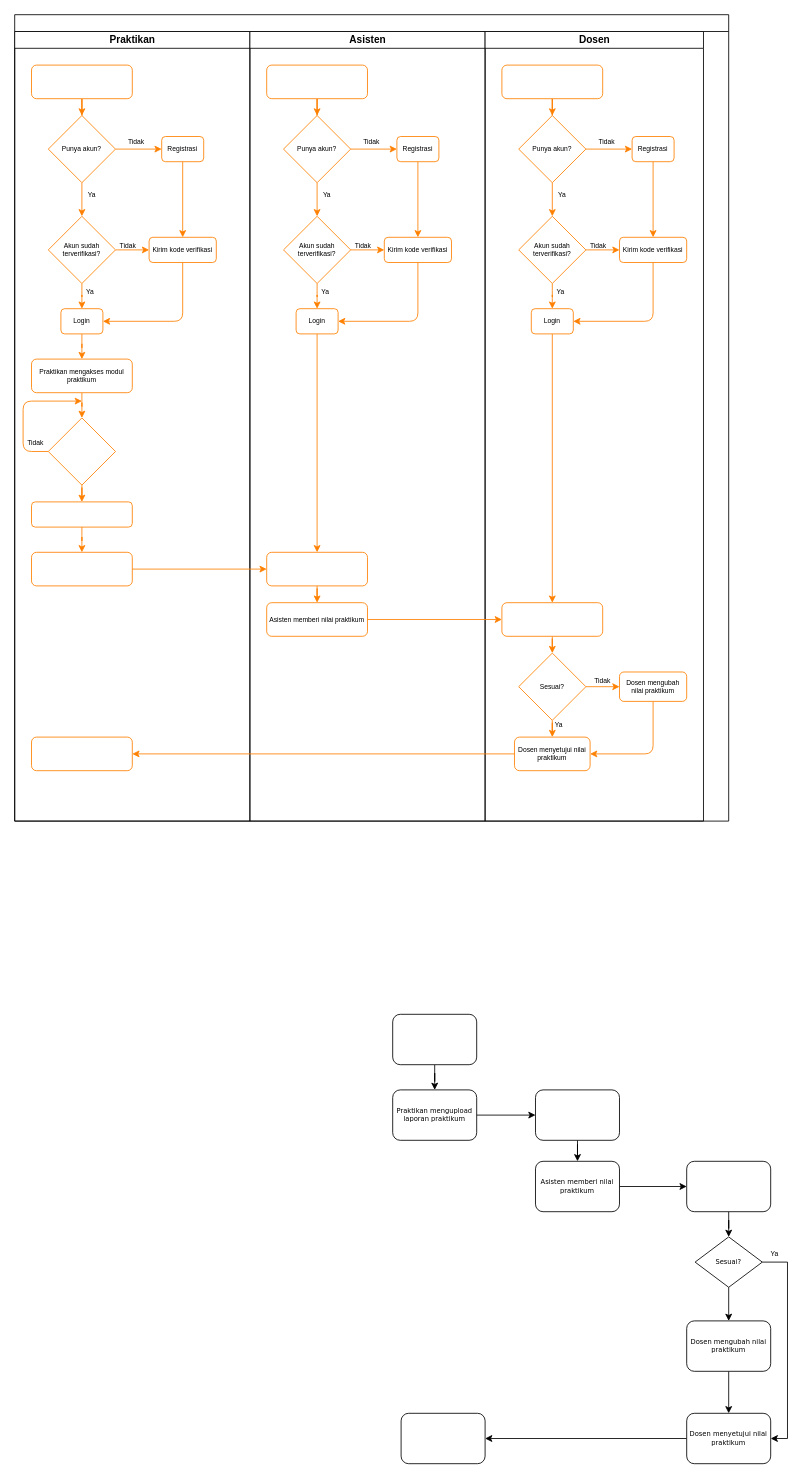
Image size: 809x1478. Some labels were removed from this diagram. Each missing label, with the box of its shape:
Asisten memeriksa laporan percobaan: (266, 551, 368, 586)
Asisten mengakses website: (266, 64, 368, 99)
Asisten mengoreksi laporan praktikum: (535, 1089, 620, 1140)
Dosen memeriksa nilai yang diberikan oleh asisten: (501, 602, 603, 636)
Dosen mengakses website: (501, 64, 603, 99)
Dosen mengoreksi nilai yang diberikan asisten: (686, 1160, 771, 1212)
Nilai Praktikum dapat ditampilkan di halaman praktikan: (400, 1412, 485, 1464)
Pool: (14, 14, 729, 821)
Praktikan memulai percobaan: (31, 501, 132, 527)
Praktikan memulai praktikum: (392, 1013, 477, 1065)
Praktikan mendapatkan nilai praktikum: (31, 736, 132, 771)
Praktikan mengakses website: (31, 64, 132, 99)
Praktikan mengunggah laporan percobaan: (31, 551, 132, 586)
Sesuai jadwal?: (47, 417, 116, 485)
